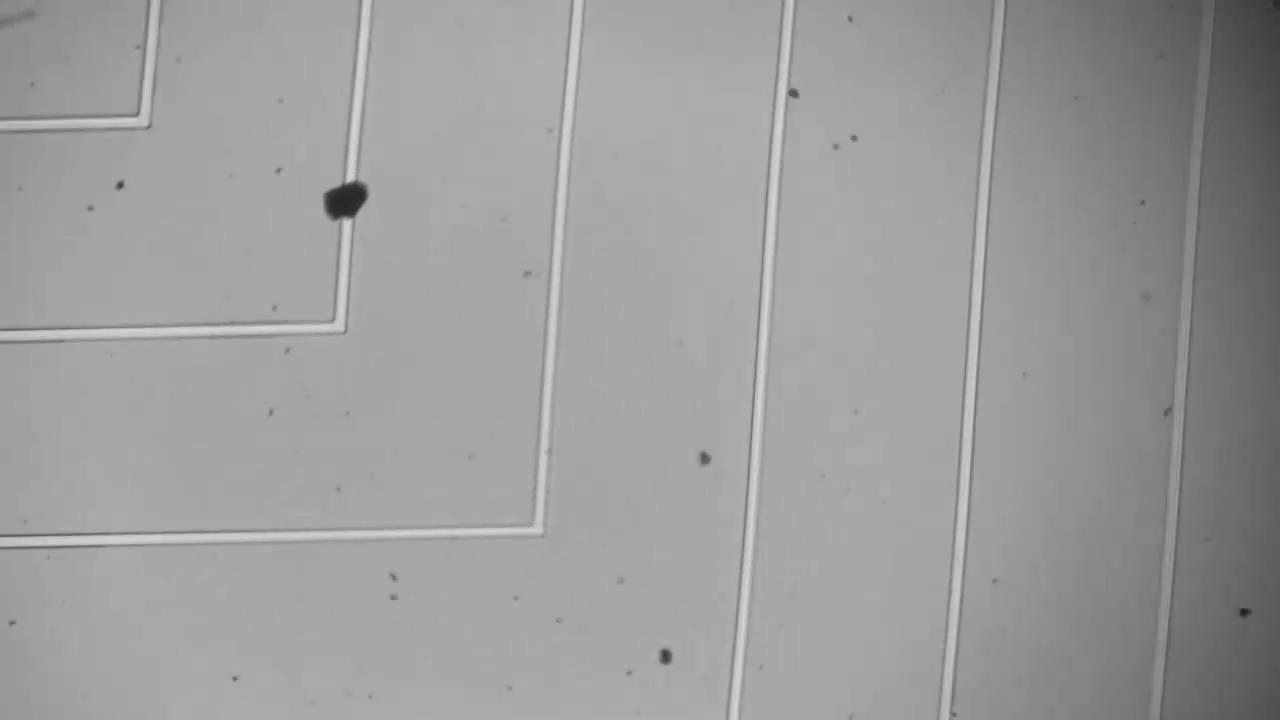stains_enbedded: (315, 173, 373, 238)
